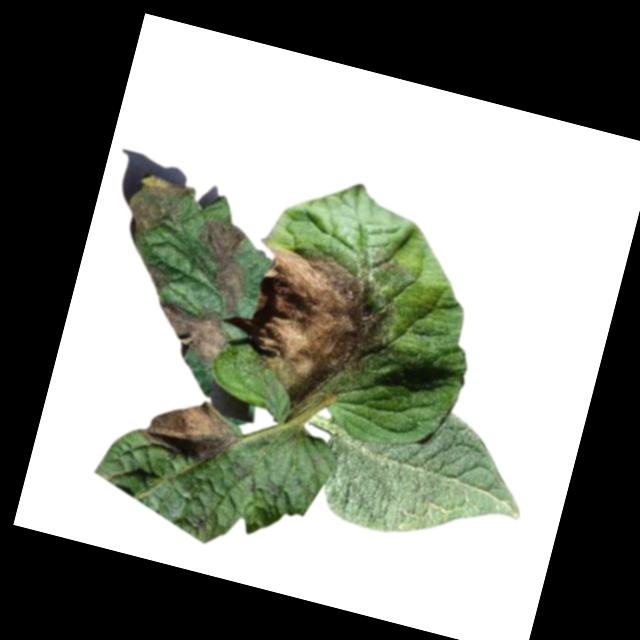Late_blight: (223, 237, 403, 440), (131, 388, 243, 468), (179, 213, 262, 320), (145, 298, 239, 372), (117, 169, 199, 248), (139, 262, 173, 297)
